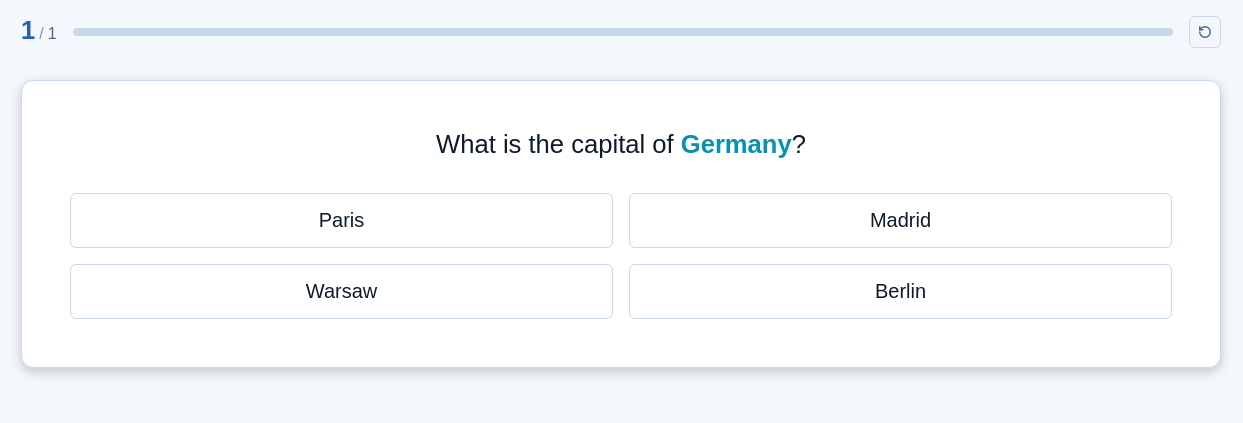
Test case: QuizPanel › shows Result after all questions are answered
Click the radio button labelled "Paris". click: x=342, y=220
box: [70,193,613,248]
Wait 800 ms
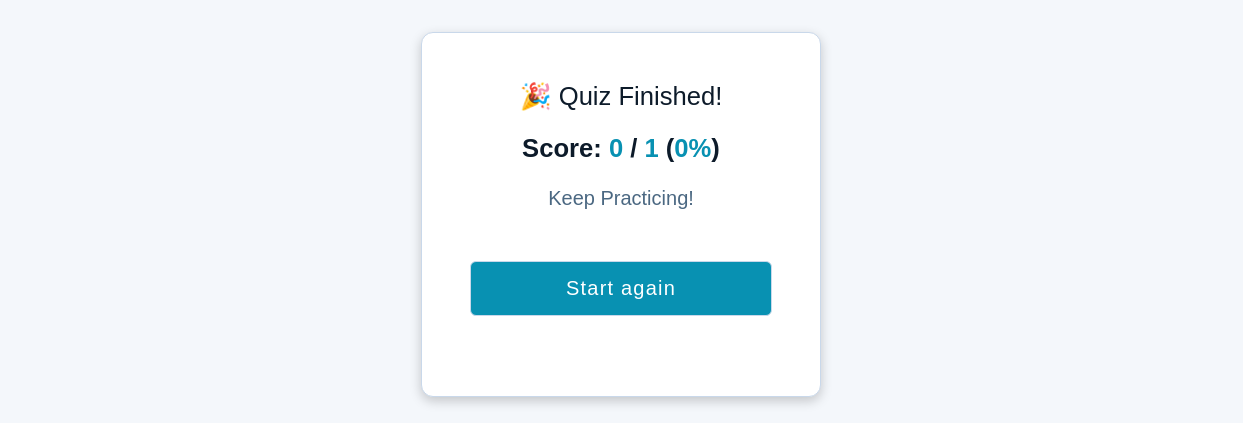
Expected: the heading "🎉 Quiz Finished!" is shown, [520,81,722,113]
